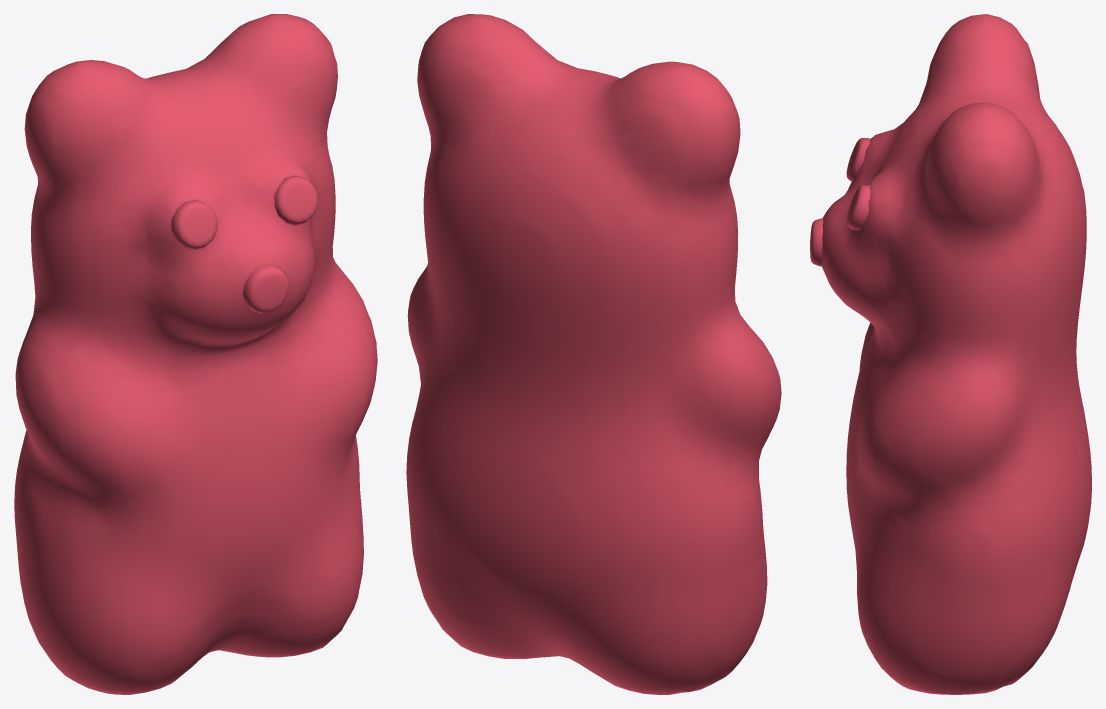
File: osito_goma.glb
The picture shows the model from 3 angles, left to right: view 1: azimuth 30°, elevation 25°; view 2: azimuth 150°, elevation 25°; view 3: azimuth 270°, elevation 25°; orthographic projection. The views are drawn at different scales.
Visible parts, largest first — view 1: gummy-bear_body; view 2: gummy-bear_body; view 3: gummy-bear_body.
Boxes of the visible parts, box(x1,y1,x2,y2) form: gummy-bear_body: box(14, 14, 377, 694); gummy-bear_body: box(406, 14, 781, 694); gummy-bear_body: box(810, 14, 1091, 694).
Bounding box in the file's own units: 0.0148 × 0.025 × 0.0111.
Materials: 1 (1 with a texture image).
